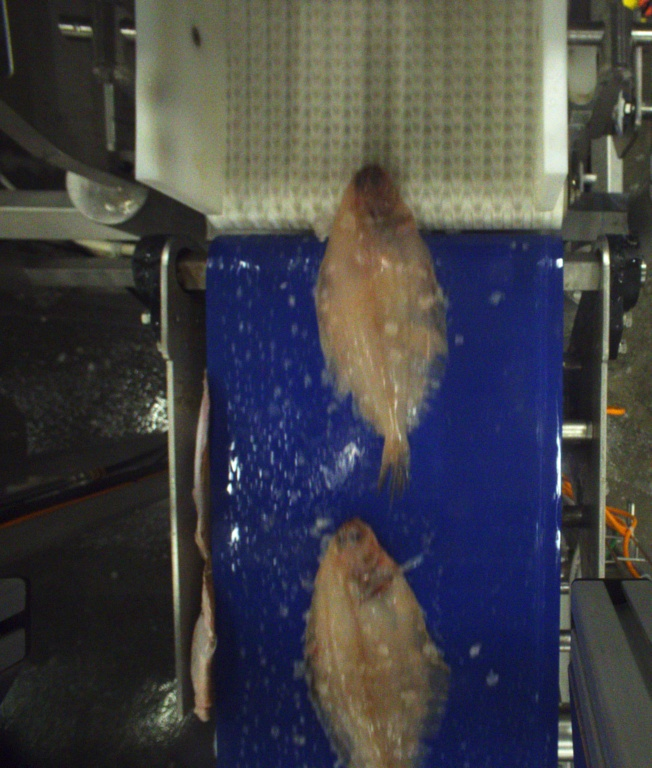WIT: (310, 160, 448, 497)
